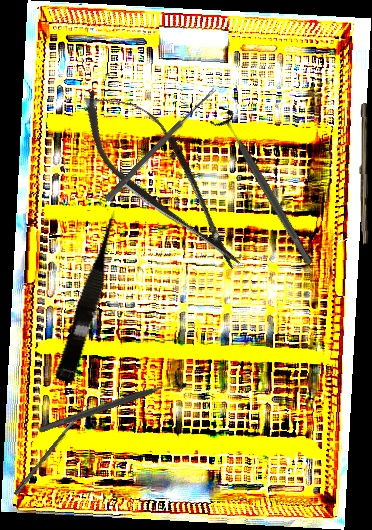Fixation Ring: (208, 107, 322, 272), (34, 366, 189, 441)
Micro Scissor: (62, 68, 265, 289), (54, 208, 129, 386)
Scalpel Handle: (357, 103, 370, 245)
Surgical Spoon: (104, 86, 217, 203), (13, 404, 89, 497)
